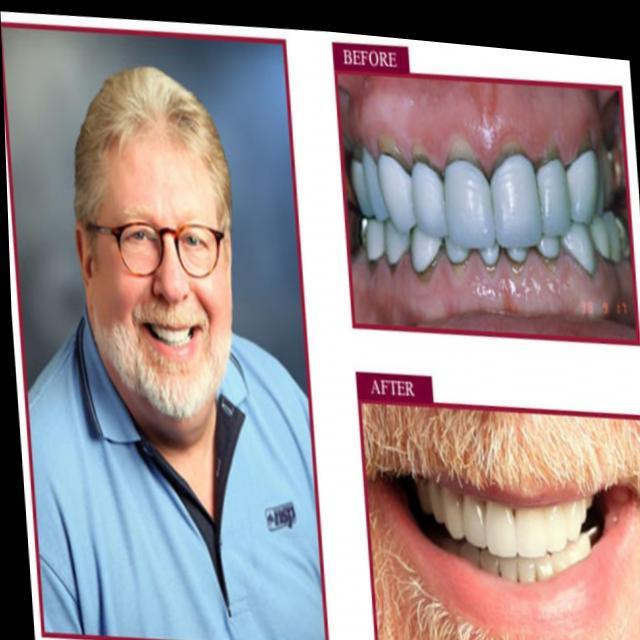Nonhelmet: (69, 62, 240, 421)
